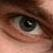eye: (20, 17, 35, 31)
